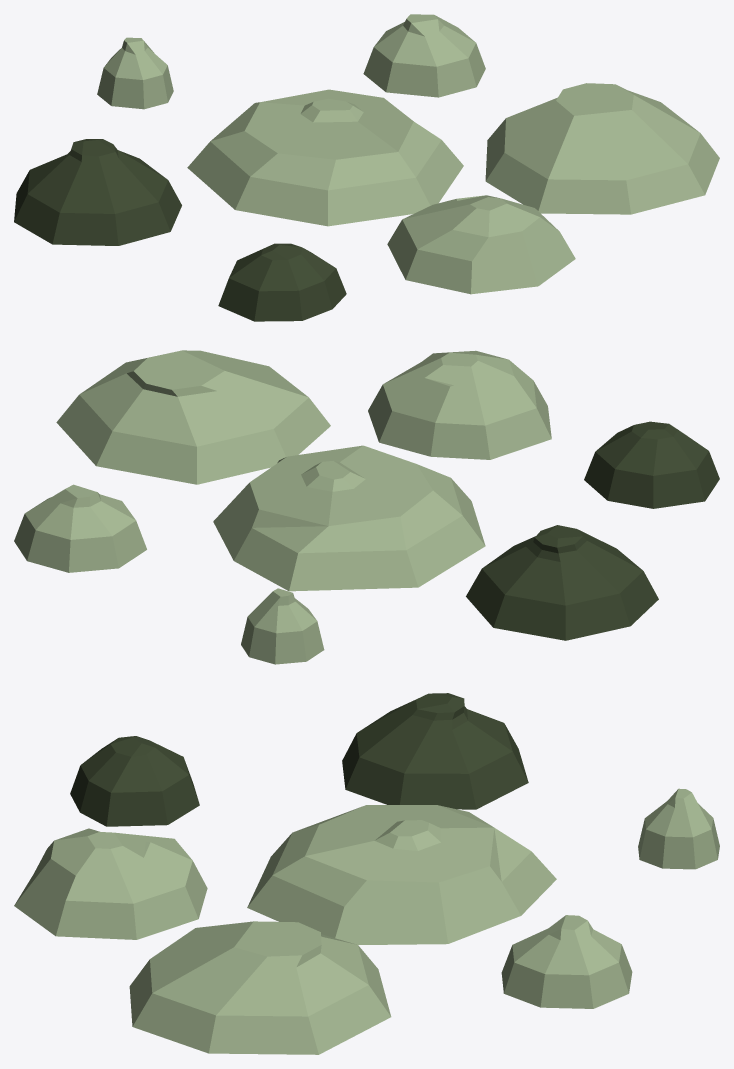
Rendered from EA_Swamp_Grass_Hill_01c.glb.
The picture shows the model from 3 angles, top to bottom: view 1: azimuth 30°, elevation 25°; view 2: azimuth 150°, elevation 25°; view 3: azimuth 270°, elevation 25°; orthographic projection. The views are drawn at different scales.
Visible parts, largest first — view 1: EA_Swamp_Grass_Hill_01c; view 2: EA_Swamp_Grass_Hill_01c; view 3: EA_Swamp_Grass_Hill_01c.
Part boxes in pixels (x1=…): EA_Swamp_Grass_Hill_01c: x1=14, y1=14, x2=719, y2=321; EA_Swamp_Grass_Hill_01c: x1=14, y1=350, x2=719, y2=664; EA_Swamp_Grass_Hill_01c: x1=14, y1=693, x2=719, y2=1054.
Bounding box in the file's own units: 2.13 × 0.2204 × 1.96.
1 material, 1 textured.
